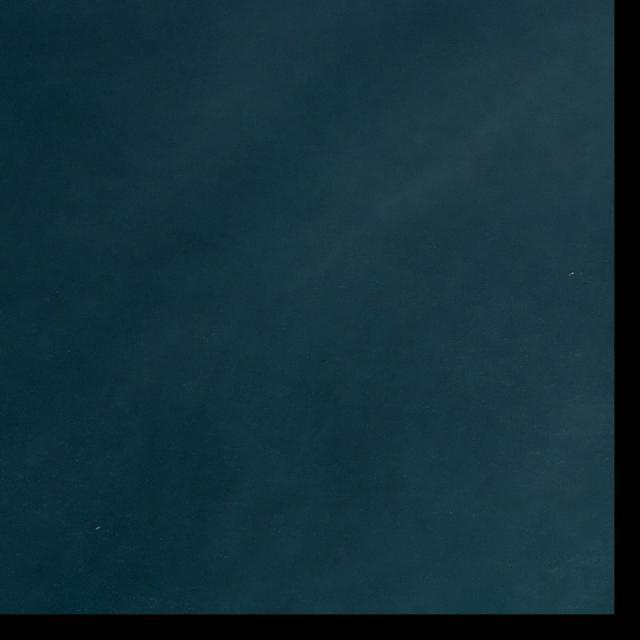ship: (569, 272, 575, 277)
